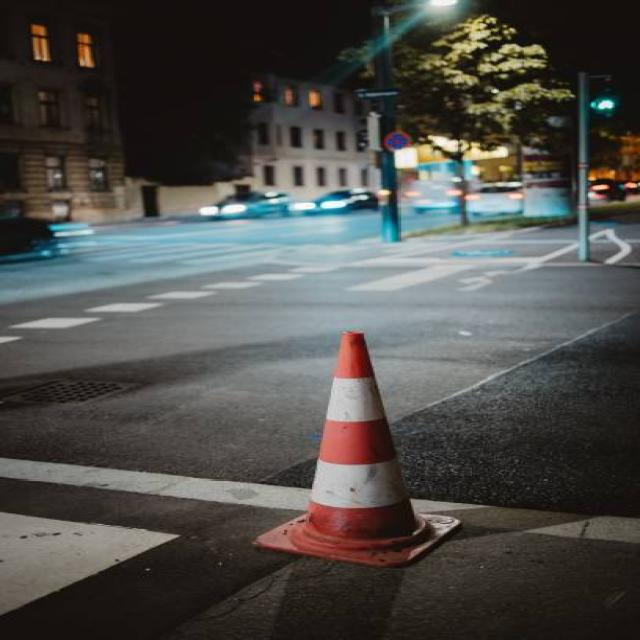Traffic Cone: (201, 308, 518, 605)
